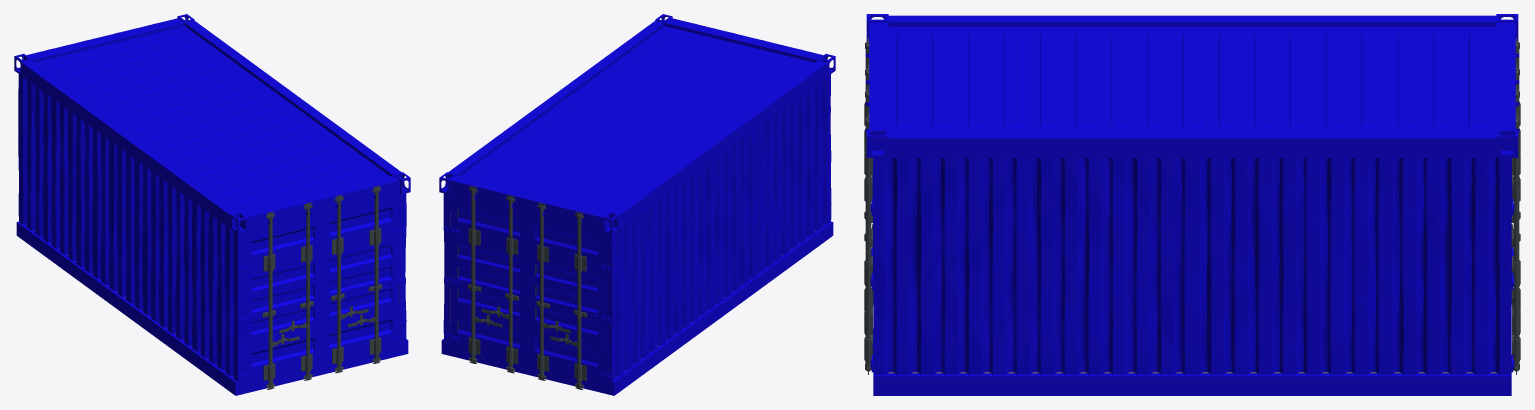
The model's file is SM_CARGO_CONTAINER.gltf.
The picture shows the model from 3 angles, left to right: view 1: azimuth 30°, elevation 25°; view 2: azimuth 150°, elevation 25°; view 3: azimuth 270°, elevation 25°; orthographic projection. The views are drawn at different scales.
Visible parts, largest first — view 1: SM_CARGO_CONTAINER, DOOR_01, DOOR_02; view 2: SM_CARGO_CONTAINER, DOOR_04, DOOR_03; view 3: SM_CARGO_CONTAINER, DOOR_03, DOOR_01.
Boxes of the visible parts, box(x1,y1,x2,y2) form: SM_CARGO_CONTAINER: box(14, 14, 410, 395); DOOR_01: box(322, 186, 400, 373); DOOR_02: box(244, 202, 321, 389); SM_CARGO_CONTAINER: box(439, 14, 835, 395); DOOR_04: box(528, 202, 606, 389); DOOR_03: box(449, 186, 527, 373); SM_CARGO_CONTAINER: box(865, 14, 1519, 395); DOOR_03: box(1511, 86, 1520, 374); DOOR_01: box(864, 86, 873, 374).
Bounding box in the file's own units: 2.16 × 2.14 × 4.88.
